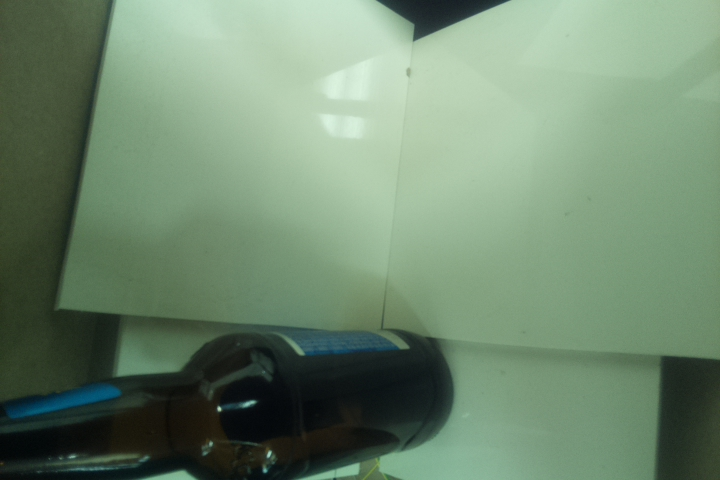makju: (1, 326, 453, 480)
